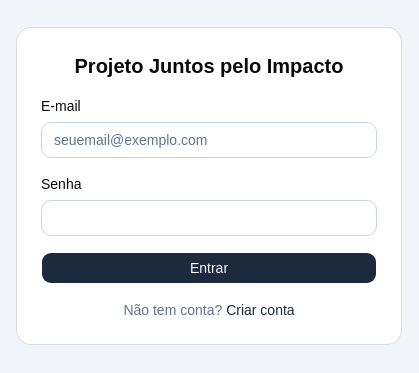
SignInPage › shows error for invalid email format
The image size is (419, 373).
In the field labelled "E-mail": {"x": 209, "y": 140} [41,122,377,158], type "invalido"
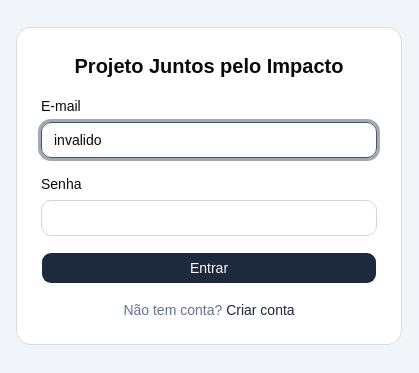
In the password field labelled "Senha": {"x": 209, "y": 218} [41,200,377,236], type "123456"
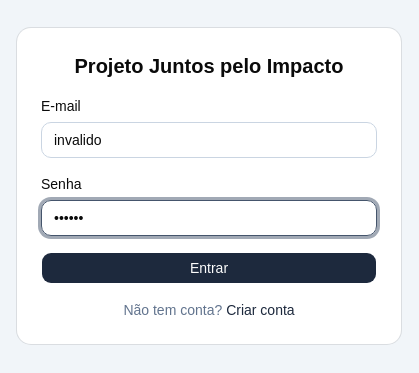
Click the button "Entrar": {"x": 209, "y": 268} [41,252,377,284]
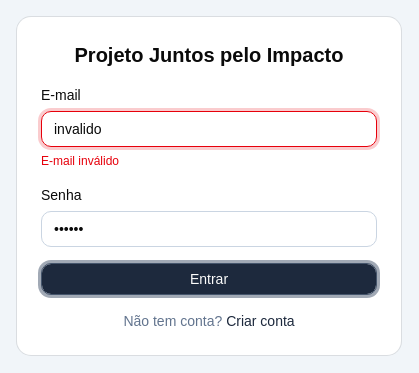
Now the text "E-mail inválido" is shown, box [41,154,119,168]
